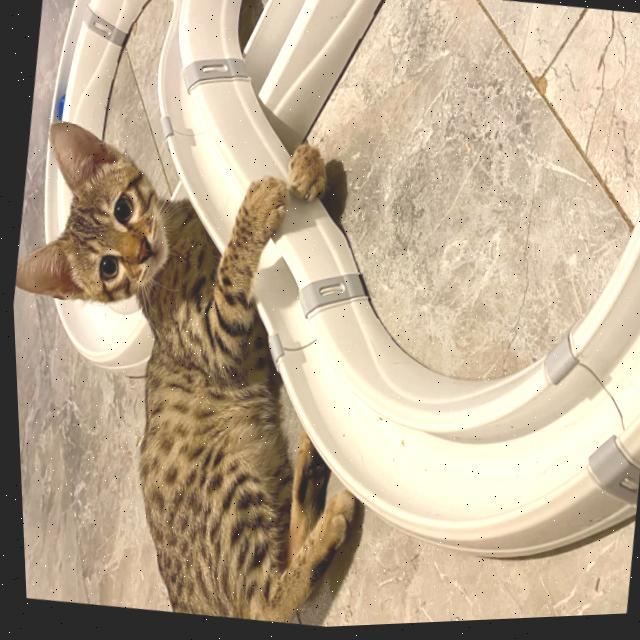Savannah: (4, 97, 407, 640)
